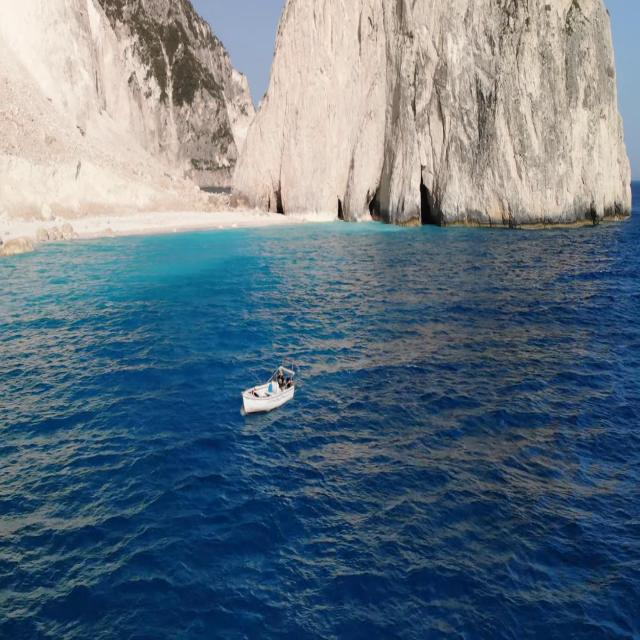boat: (242, 356, 296, 415)
